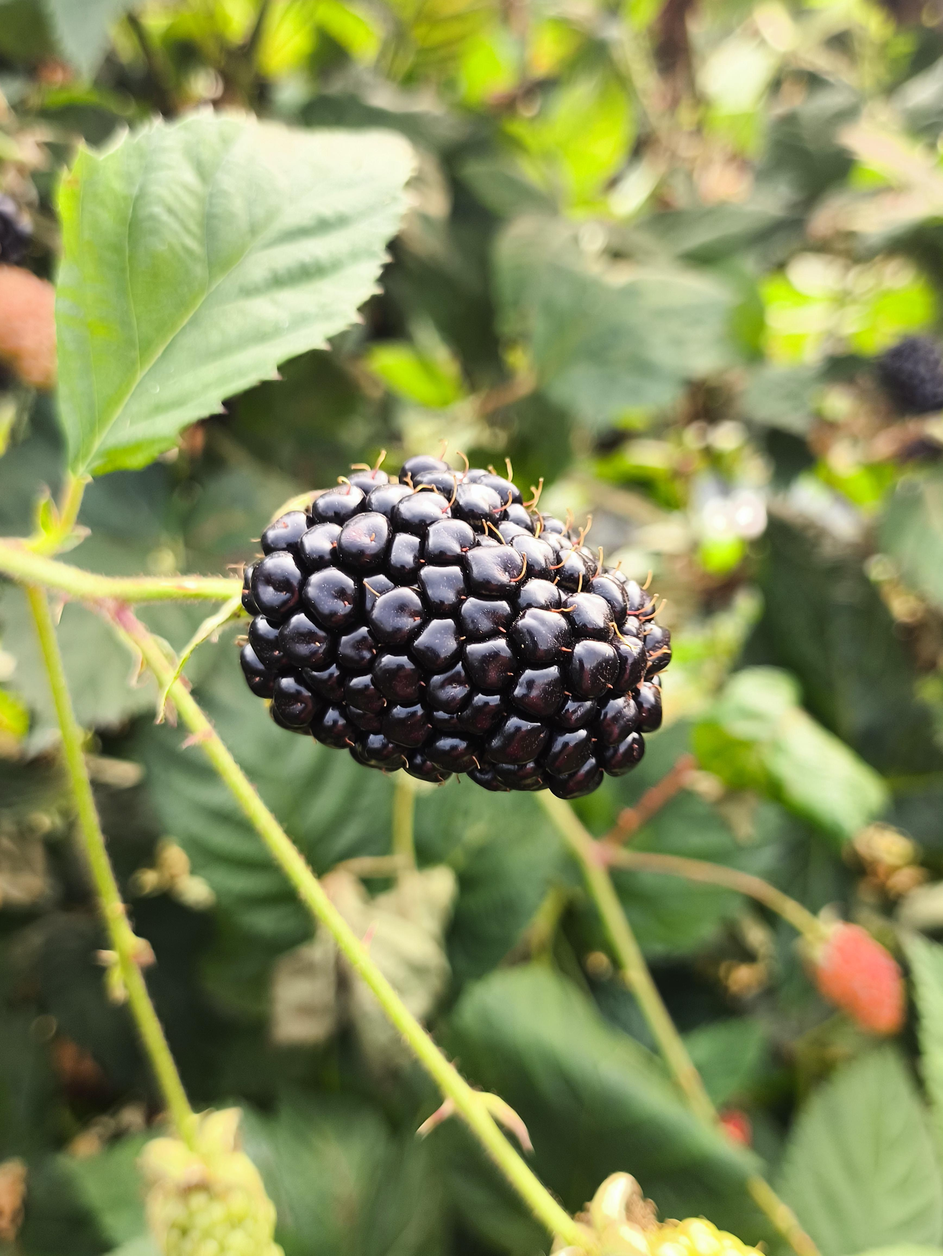maduro: (249, 467, 663, 789)
